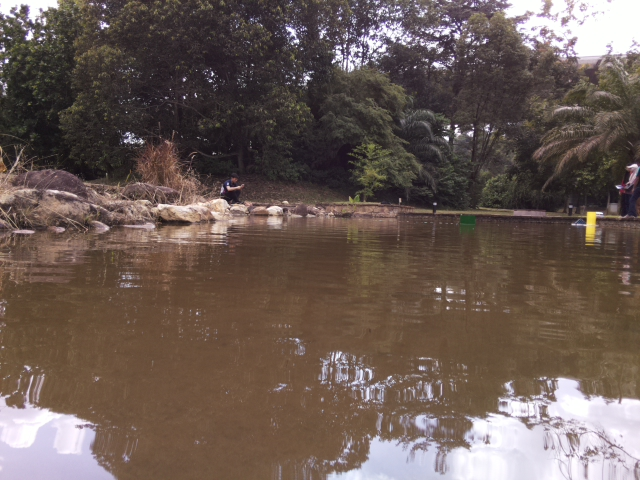obstacle: (458, 214, 477, 226)
